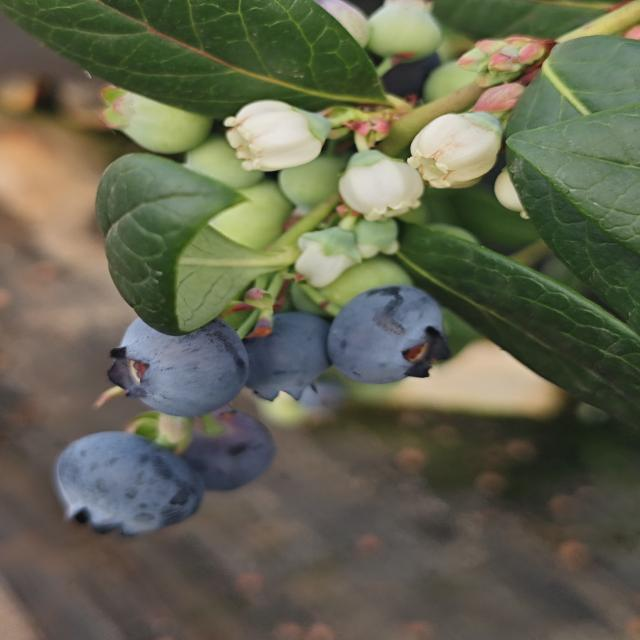ripe: (50, 429, 206, 539), (100, 313, 252, 419), (324, 283, 453, 387), (164, 405, 284, 494), (234, 308, 338, 403)
